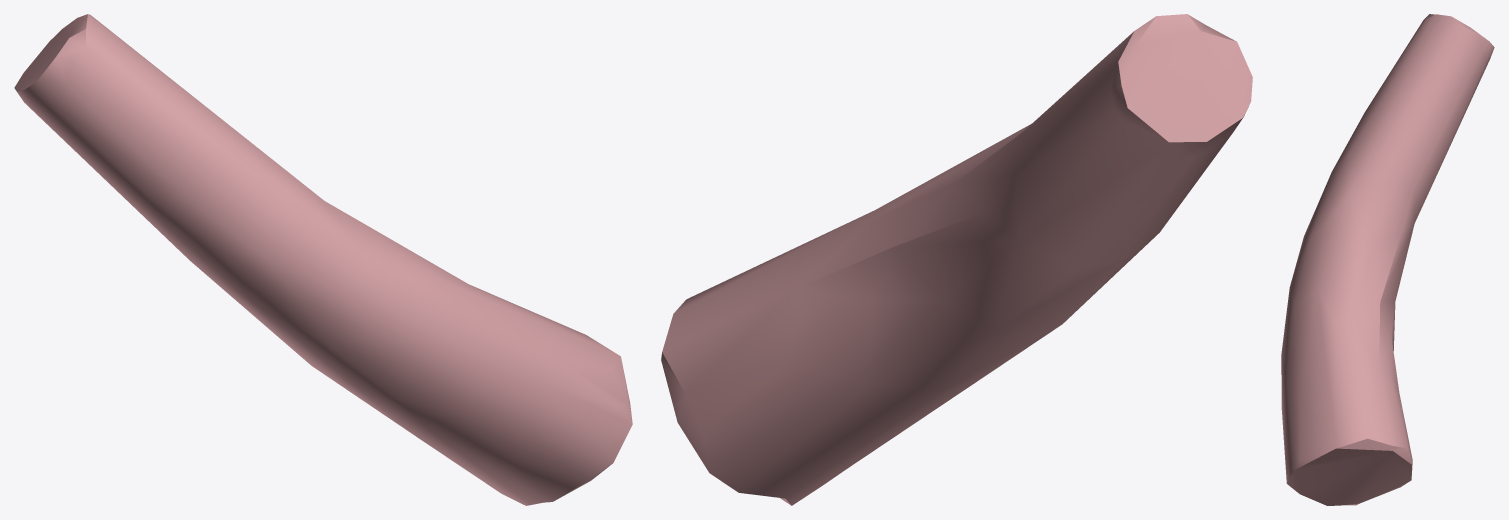
File: fma68211_fj6552.glb
3 renders of one model, left to right at view 1: azimuth 30°, elevation 25°; view 2: azimuth 150°, elevation 25°; view 3: azimuth 270°, elevation 25°, orthographic. The views are drawn at different scales.
Parts seen in each view (by area): view 1: FMA68211_FJ6552; view 2: FMA68211_FJ6552; view 3: FMA68211_FJ6552.
Part boxes in pixels (left/top/right/bottom): FMA68211_FJ6552: left=14, top=14, right=632, bottom=505; FMA68211_FJ6552: left=661, top=14, right=1252, bottom=505; FMA68211_FJ6552: left=1281, top=14, right=1494, bottom=505.
Bounding box in the file's own units: 0.00818 × 0.00781 × 0.00411.
